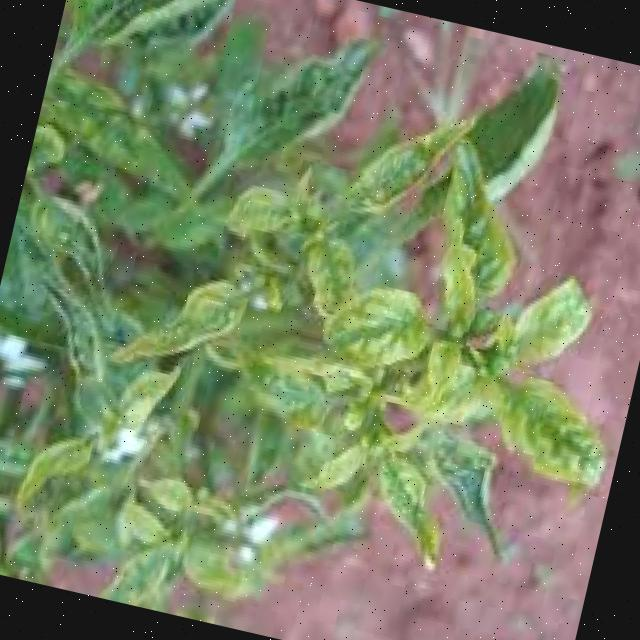leaf curl: (230, 21, 640, 640), (0, 0, 321, 617)
